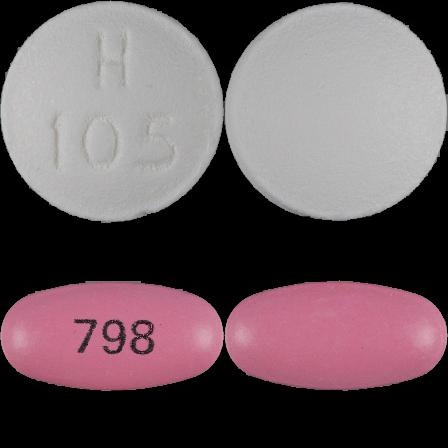61919-646: (0, 0, 224, 224)
